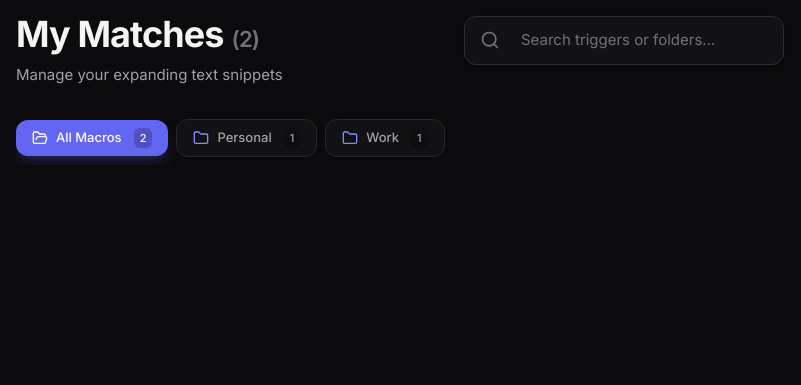
Test: HomeView Component › filters macros by folder tab selection
Click the button "Work 1" at [385, 138], box [325,118,445,157]
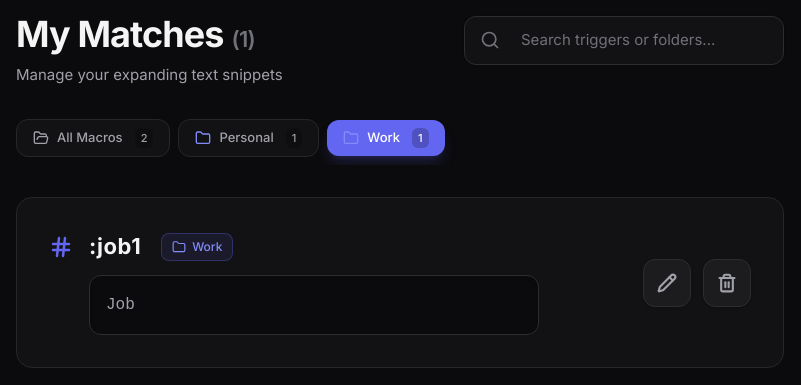
Expected: the text ":job1" is shown, [89,230,141,263]
